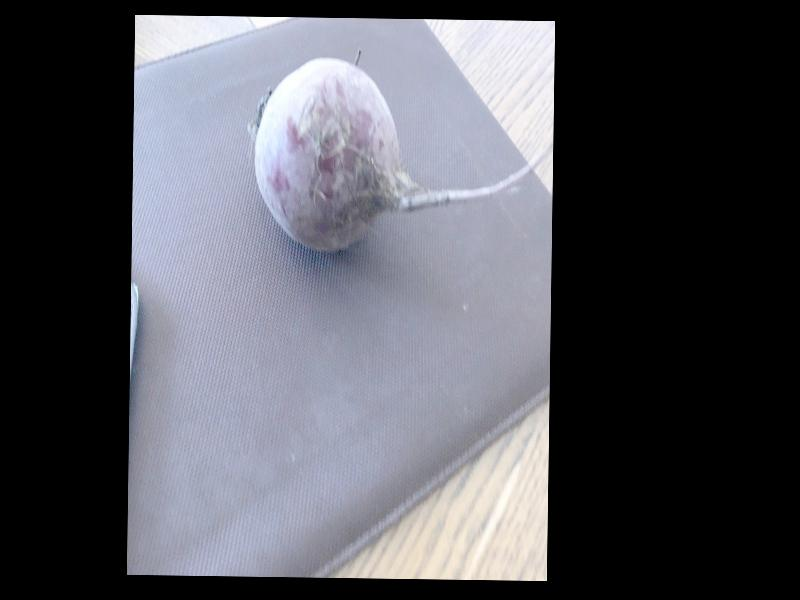Beet: (253, 58, 552, 253)
